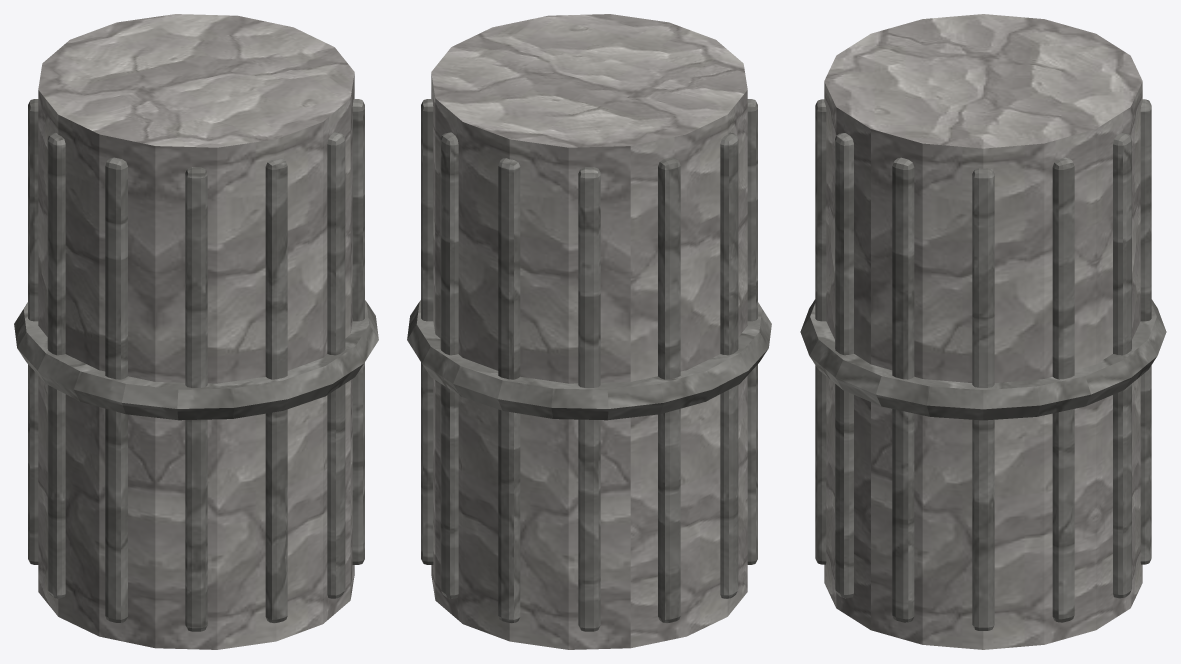
The model's file is column_shaft__plank_root.glb.
The picture shows the model from 3 angles, left to right: view 1: azimuth 30°, elevation 25°; view 2: azimuth 150°, elevation 25°; view 3: azimuth 270°, elevation 25°; orthographic projection.
Parts seen in each view (by area): view 1: model; view 2: model; view 3: model.
Boxes of the visible parts, <box> form: model: <box>14,14,378,649</box>; model: <box>407,14,771,649</box>; model: <box>800,14,1166,649</box>.
Bounding box in the file's own units: 0.662 × 1 × 0.662.
2 materials, 2 textured.
